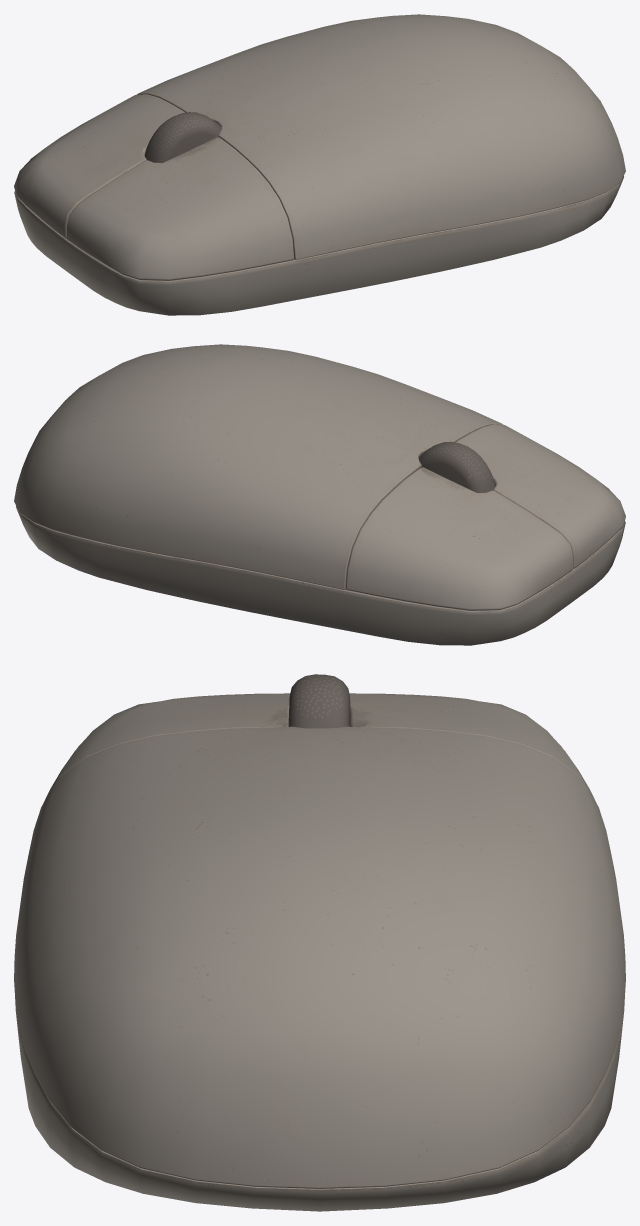
The model's file is Old_Mouse.glb.
3 views of the same model, one above another, from view 1: azimuth 30°, elevation 25°; view 2: azimuth 150°, elevation 25°; view 3: azimuth 270°, elevation 25° (orthographic). The views are drawn at different scales.
Parts seen in each view (by area): view 1: C_mouse_low_lambert1_0; view 2: C_mouse_low_lambert1_0; view 3: C_mouse_low_lambert1_0.
Part boxes in pixels (left/top/right/bottom): C_mouse_low_lambert1_0: left=14, top=14, right=625, bottom=315; C_mouse_low_lambert1_0: left=14, top=344, right=625, bottom=645; C_mouse_low_lambert1_0: left=14, top=674, right=625, bottom=1211.
Bounding box in the file's own units: 11.83 × 3.24 × 7.25.
Materials: 1 (1 with a texture image).
